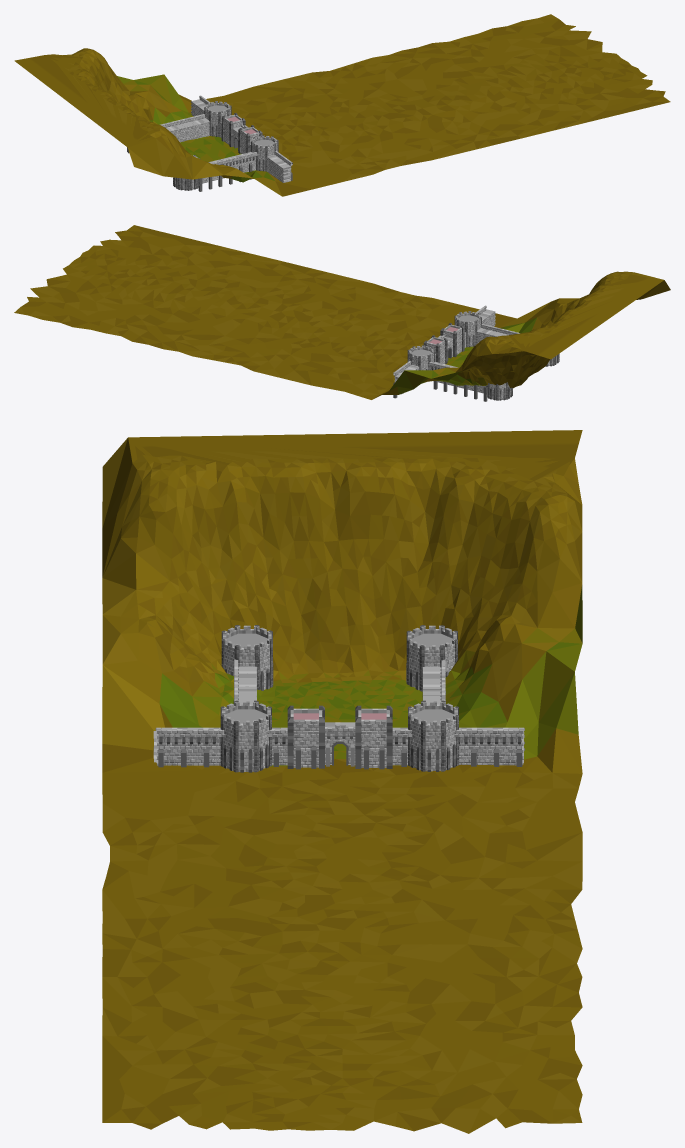
The model's file is castle_town.fbx.
3 renders of one model, top to bottom at view 1: azimuth 30°, elevation 25°; view 2: azimuth 150°, elevation 25°; view 3: azimuth 270°, elevation 25°, orthographic. The views are drawn at different scales.
Visible parts, largest first — view 1: Plane, Cube.039, Cube.038, Cube.042, Cube.044, Cylinder.015, Cylinder.016, Cylinder.022; view 2: Plane, Cube.039, Cylinder.015, Cube.042, Cylinder.016, Cube.038, Cylinder.019, Cube.044; view 3: Plane, Cube.038, Cube.039, Cylinder.015, Cylinder.016, Cylinder.022, Cylinder.019, Cube.040.
Part boxes in pixels (box(x1,y1,x2,y2)): Plane: box(14, 14, 670, 196); Cube.039: box(221, 113, 262, 153); Cube.038: box(191, 95, 292, 182); Cube.042: box(160, 114, 209, 142); Cube.044: box(198, 152, 257, 191); Cylinder.015: box(251, 135, 278, 171); Cylinder.016: box(204, 101, 231, 137); Cylinder.022: box(173, 155, 200, 190); Plane: box(14, 225, 670, 399); Cube.039: box(423, 323, 464, 363); Cylinder.015: box(454, 311, 481, 347); Cube.042: box(429, 362, 487, 401); Cylinder.016: box(407, 345, 435, 370); Cube.038: box(393, 305, 495, 398); Cylinder.019: box(486, 382, 512, 400); Cube.044: box(476, 324, 519, 343); Plane: box(102, 430, 582, 1133); Cube.038: box(153, 727, 524, 767); Cube.039: box(287, 705, 392, 769); Cylinder.015: box(220, 700, 271, 772); Cylinder.016: box(408, 700, 458, 771); Cylinder.022: box(221, 625, 273, 690); Cylinder.019: box(406, 625, 457, 691); Cube.040: box(325, 722, 355, 766).
Bounding box in the file's own units: 82742 × 34904 × 218558.
